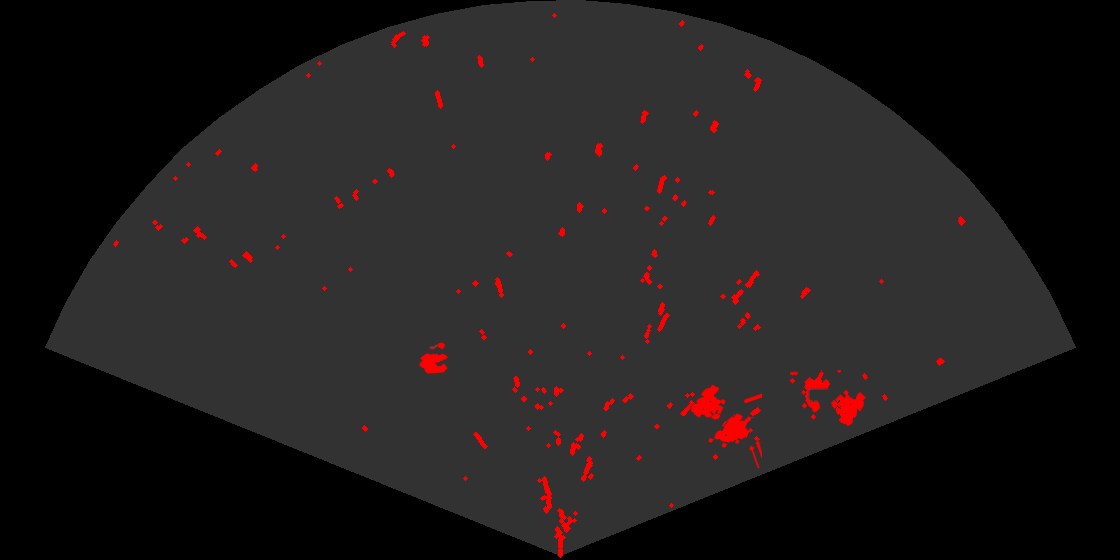ball: (418, 341, 449, 375)
cage: (689, 383, 762, 468), (790, 370, 867, 428)
